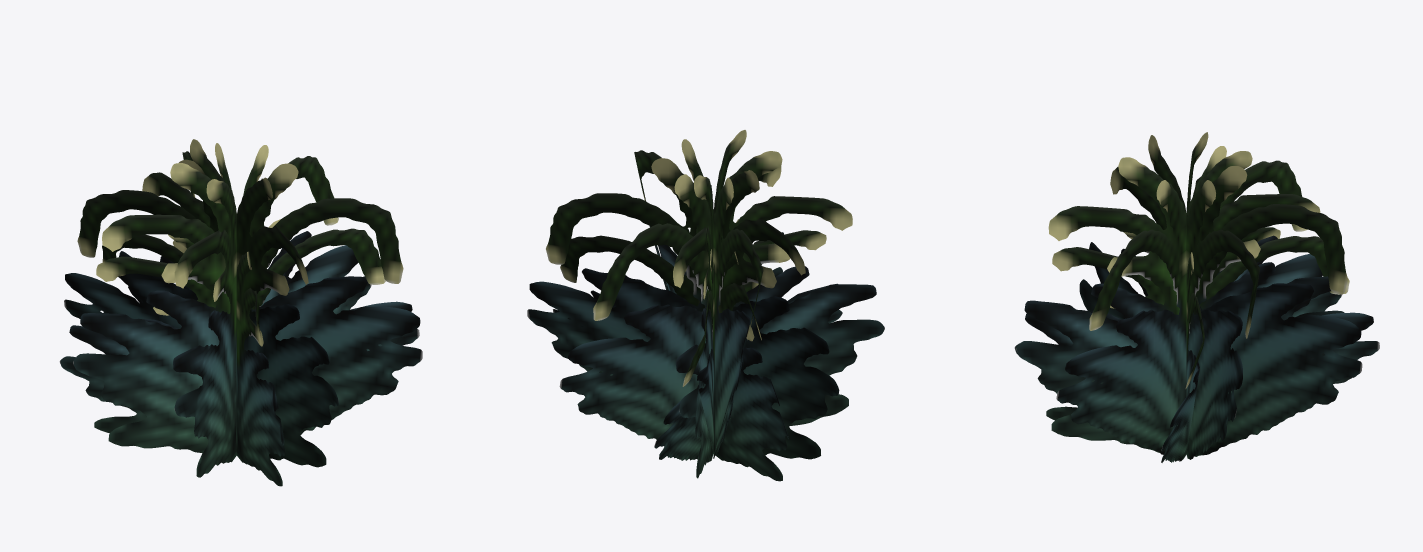
Rendered from LanternShrub.fbx.
3 views of the same model, side by side, from view 1: azimuth 30°, elevation 25°; view 2: azimuth 150°, elevation 25°; view 3: azimuth 270°, elevation 25° (orthographic).
Parts seen in each view (by area): view 1: LanternShrub; view 2: LanternShrub; view 3: LanternShrub.
Part boxes in pixels (left/top/right/bottom): LanternShrub: left=59, top=139, right=422, bottom=486; LanternShrub: left=527, top=130, right=884, bottom=481; LanternShrub: left=1014, top=132, right=1379, bottom=462.
Size of the model in its own units: 445 by 400 by 453.
1 material, 1 textured.
